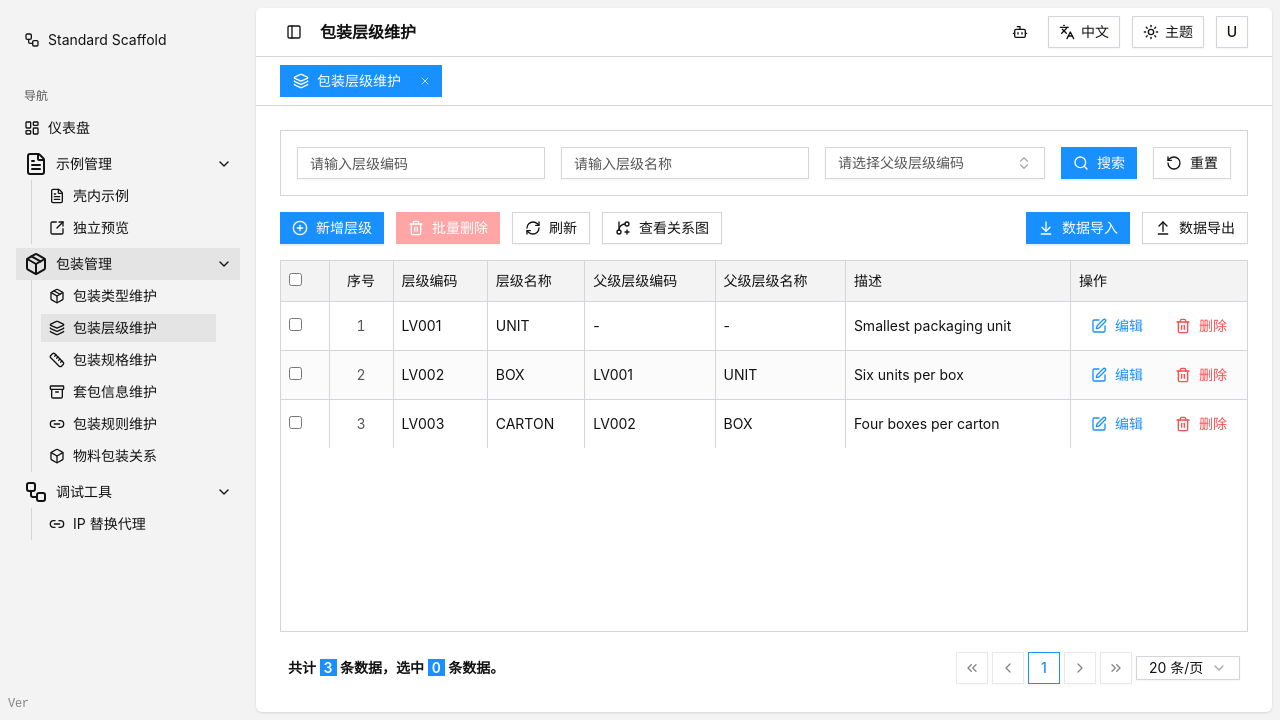
it: PackagingLevelPage › resets the create form after a packaging level is created
expect the button with test id "packaging-level-edit-LV001" is shown: met, box [1079,310,1155,342]
Click the button "新增层级" at (332, 228), box [280,212,384,244]
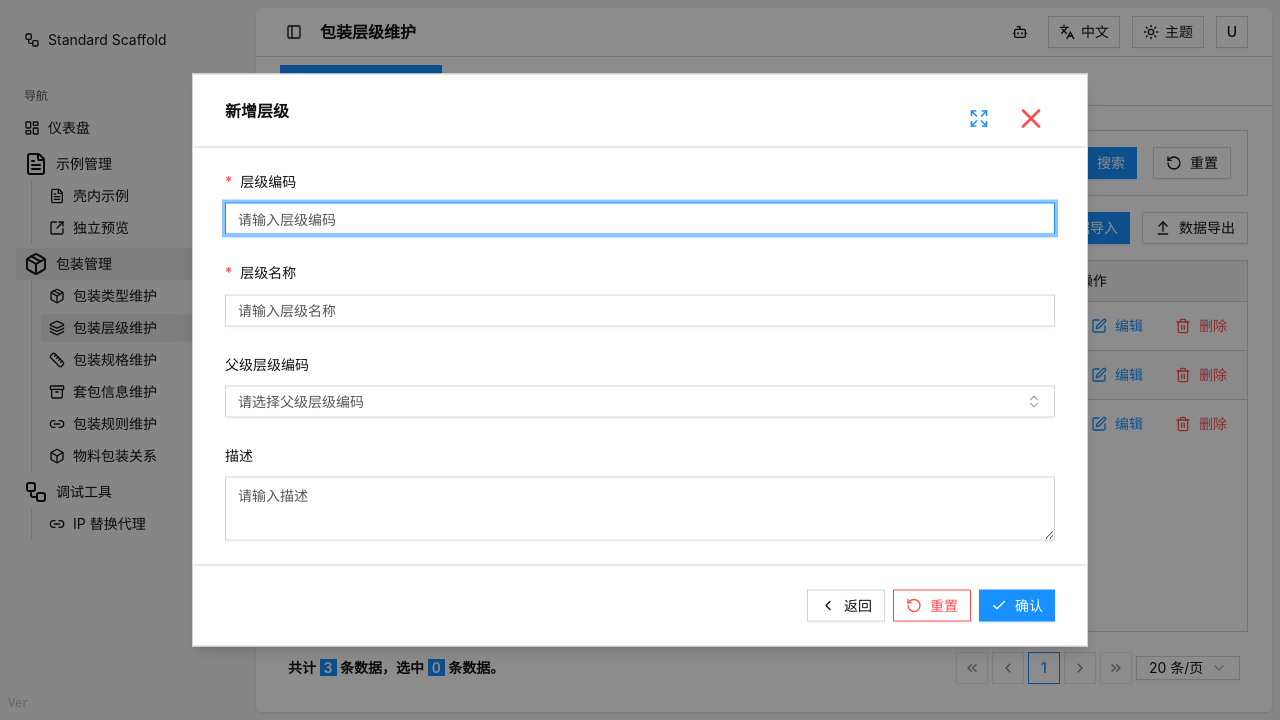
expect the dialog is shown: met, box [192,74,1088,646]
Type "LV010" into the field with test id "packaging-level-form-level-code" at (640, 219), box [225,203,1055,235]
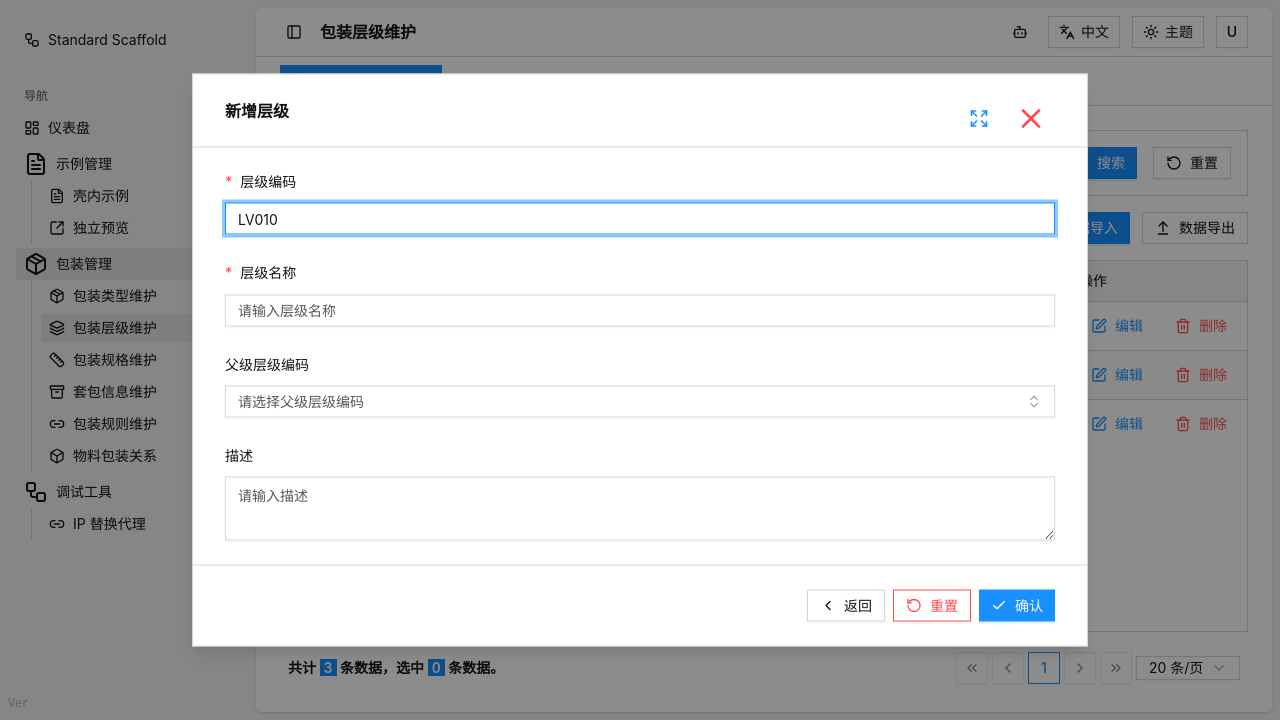
Type "PALLET" into the field with test id "packaging-level-form-level-name" at (640, 310), box [225,294,1055,326]
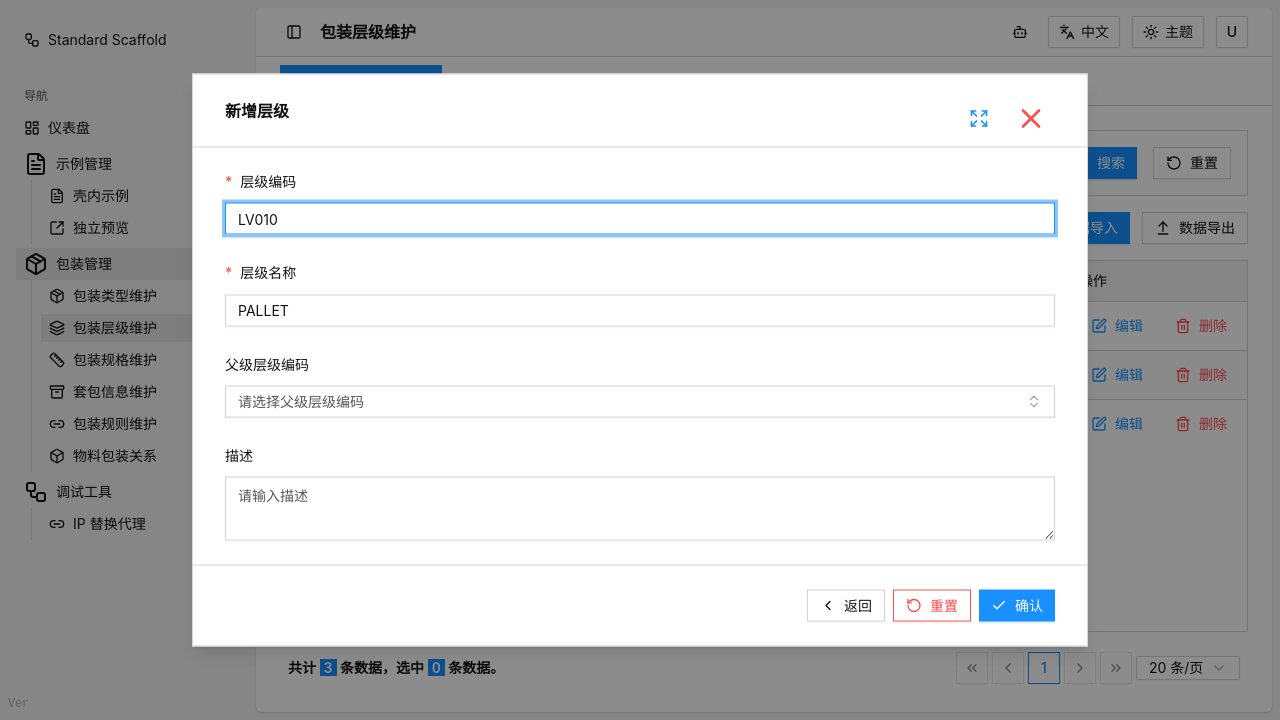
Type "Pallet layer" into the text box with test id "packaging-level-form-description" at (640, 508), box [225,476,1055,540]
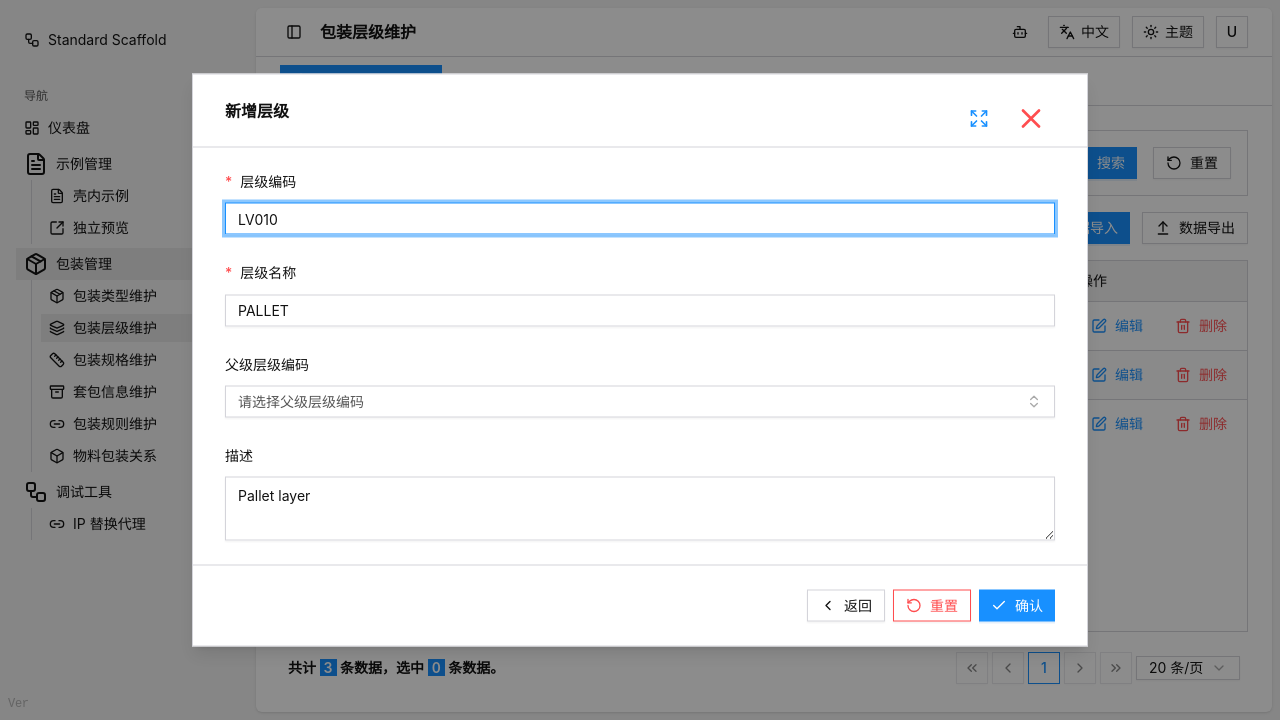
Click the button with test id "packaging-level-form-submit" at (1017, 606), box [979,590,1055,622]
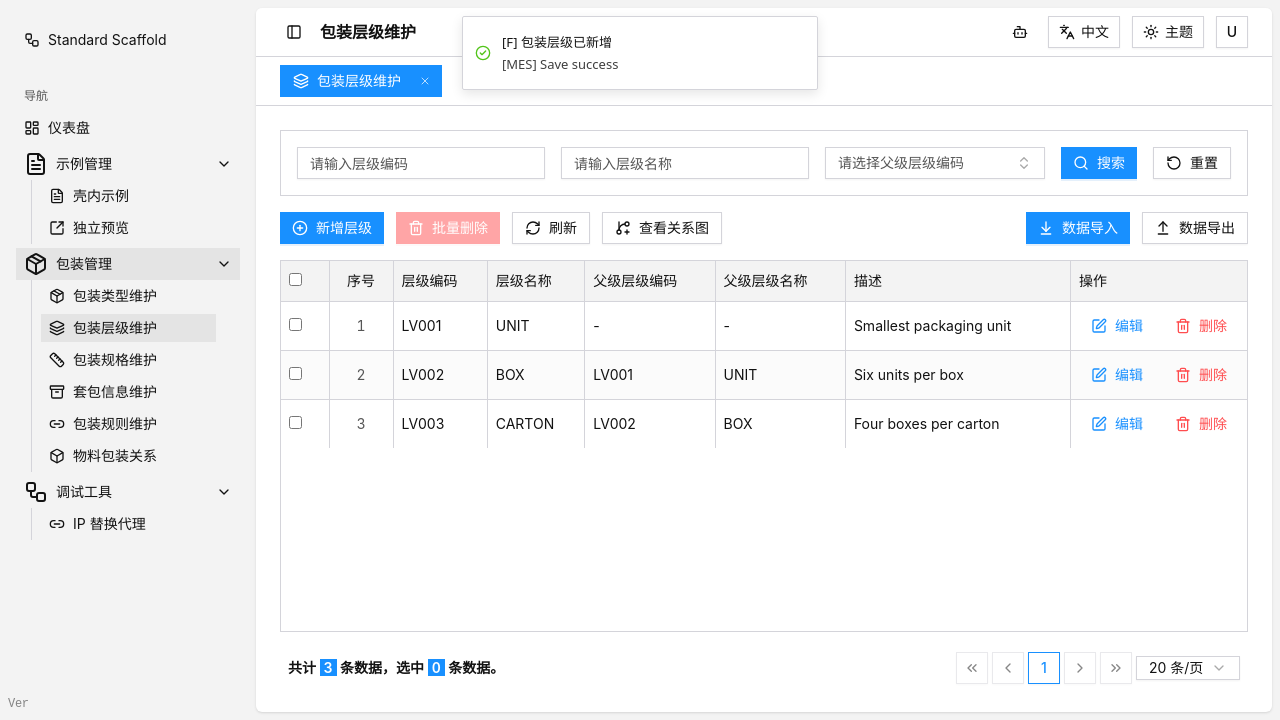
expect the dialog is gone: met
Click the button "新增层级" at (332, 228), box [280,212,384,244]
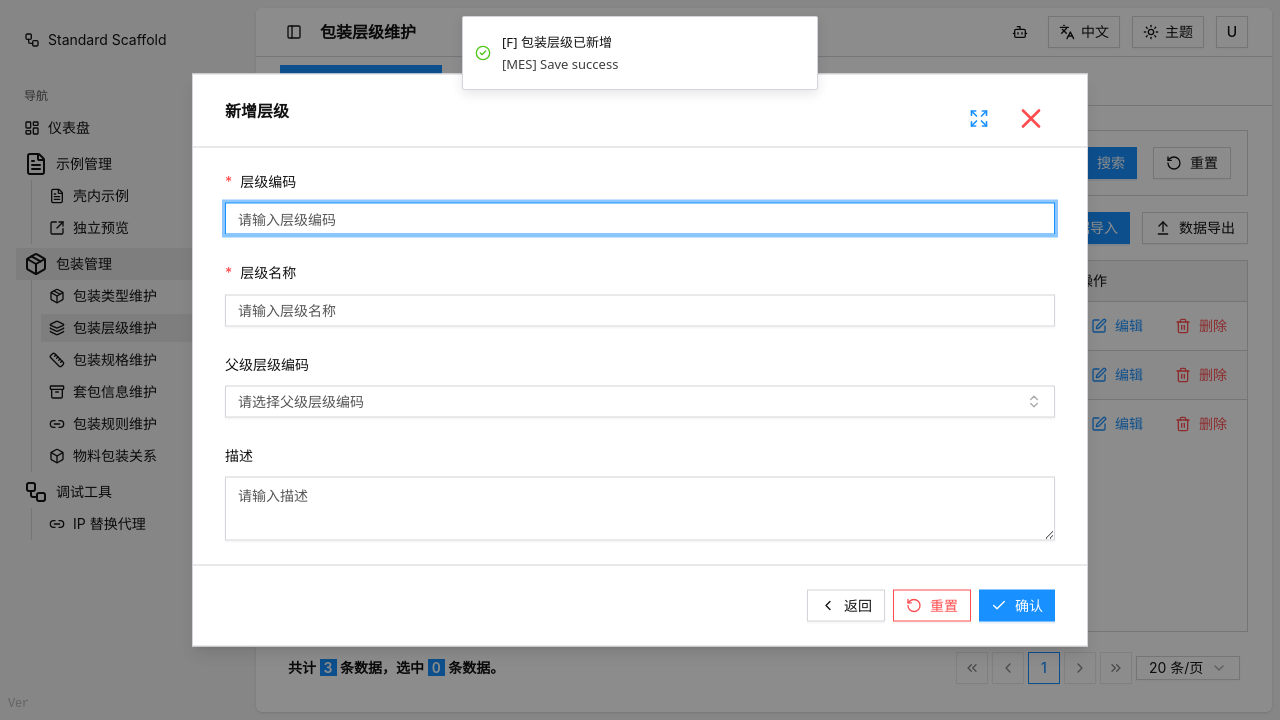
expect the dialog is shown: met, box [192,74,1088,646]
expect the field with test id "packaging-level-form-level-code" is empty: met, box [225,203,1055,235]
expect the field with test id "packaging-level-form-level-name" is empty: met, box [225,294,1055,326]
